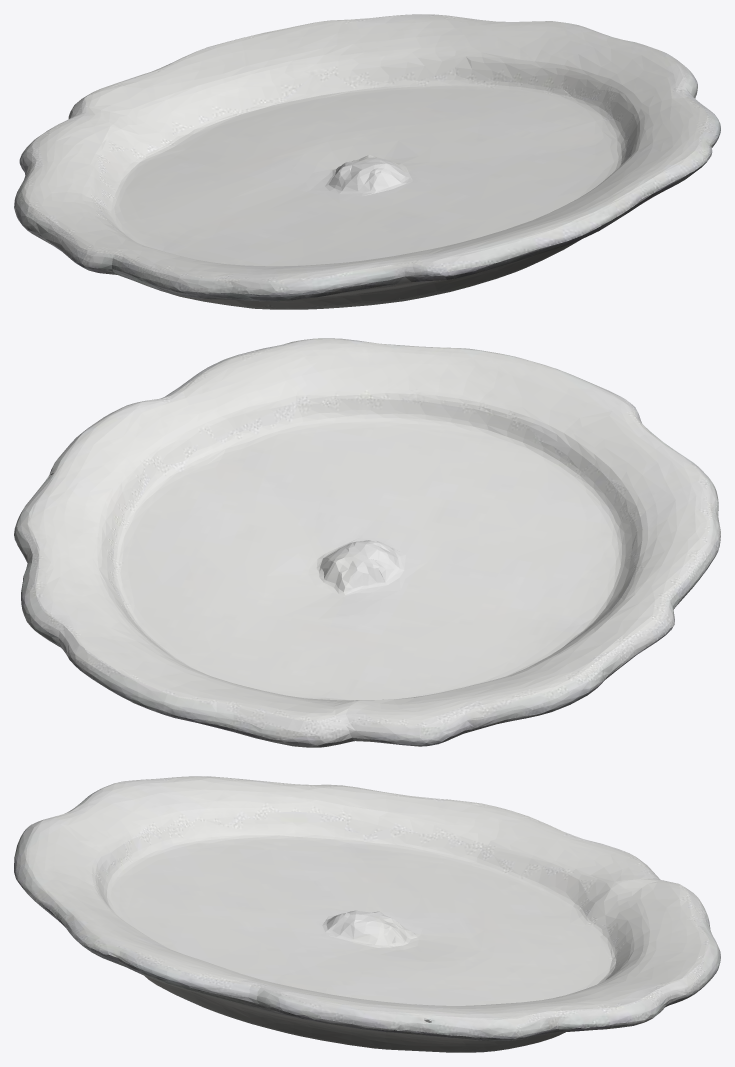
The model's file is white_plate_000.glb.
3 views of the same model, one above another, from view 1: azimuth 30°, elevation 25°; view 2: azimuth 150°, elevation 25°; view 3: azimuth 270°, elevation 25° (orthographic). The views are drawn at different scales.
Parts seen in each view (by area): view 1: white_plate_000.obj; view 2: white_plate_000.obj; view 3: white_plate_000.obj.
Part boxes in pixels (<box>): white_plate_000.obj: <box>14,14,720,309</box>; white_plate_000.obj: <box>14,338,720,747</box>; white_plate_000.obj: <box>14,776,720,1052</box>.
Bounding box in the file's own units: 0.4622 × 0.1152 × 0.4926.
1 material, 1 textured.
